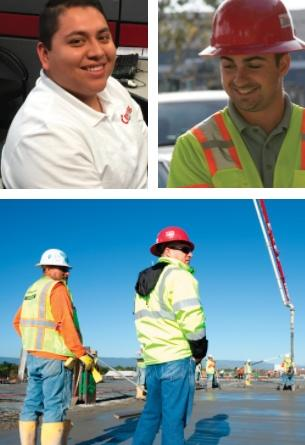helmet: (196, 1, 305, 60), (148, 228, 197, 257), (36, 249, 74, 274)
